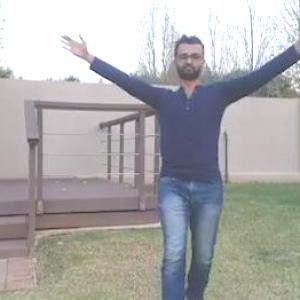takeoff: (39, 17, 299, 299)
